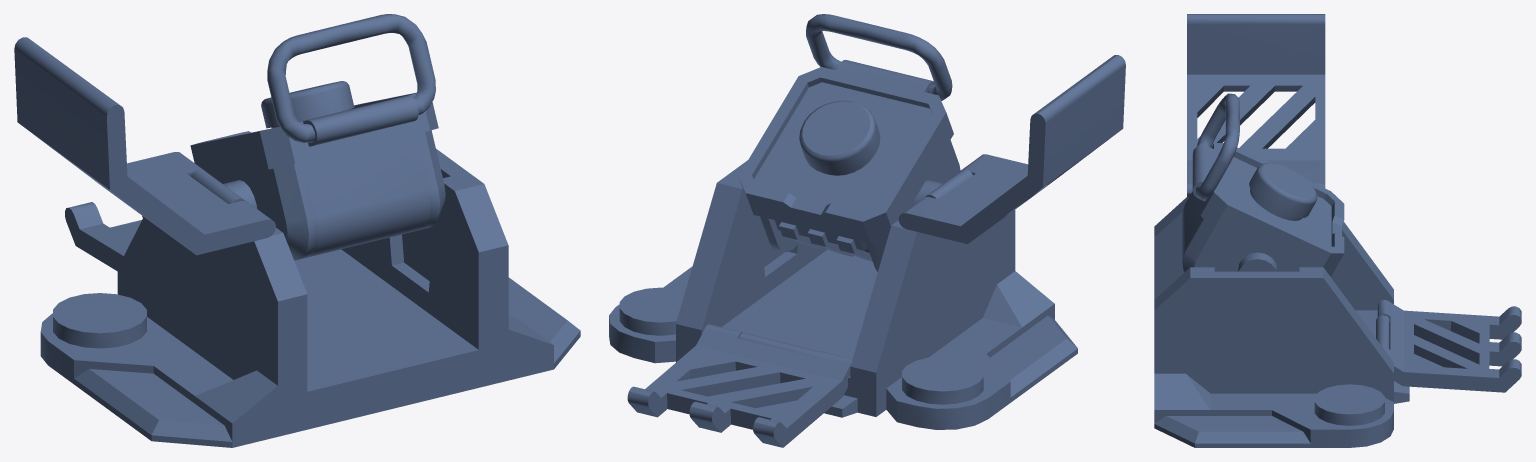
File: obj_survivalobject_activatorbutton.fbx
The picture shows the model from 3 angles, left to right: view 1: azimuth 30°, elevation 25°; view 2: azimuth 150°, elevation 25°; view 3: azimuth 270°, elevation 25°; orthographic projection. The views are drawn at different scales.
Parts seen in each view (by area): view 1: part7_lp.001; view 2: part7_lp.001; view 3: part7_lp.001.
Boxes of the visible parts, x1,y1,x2,y2 form: part7_lp.001: (14, 14, 580, 447); part7_lp.001: (609, 14, 1125, 447); part7_lp.001: (1154, 14, 1521, 447).
Size of the model in its own units: 8.4 by 5.87 by 7.46.
